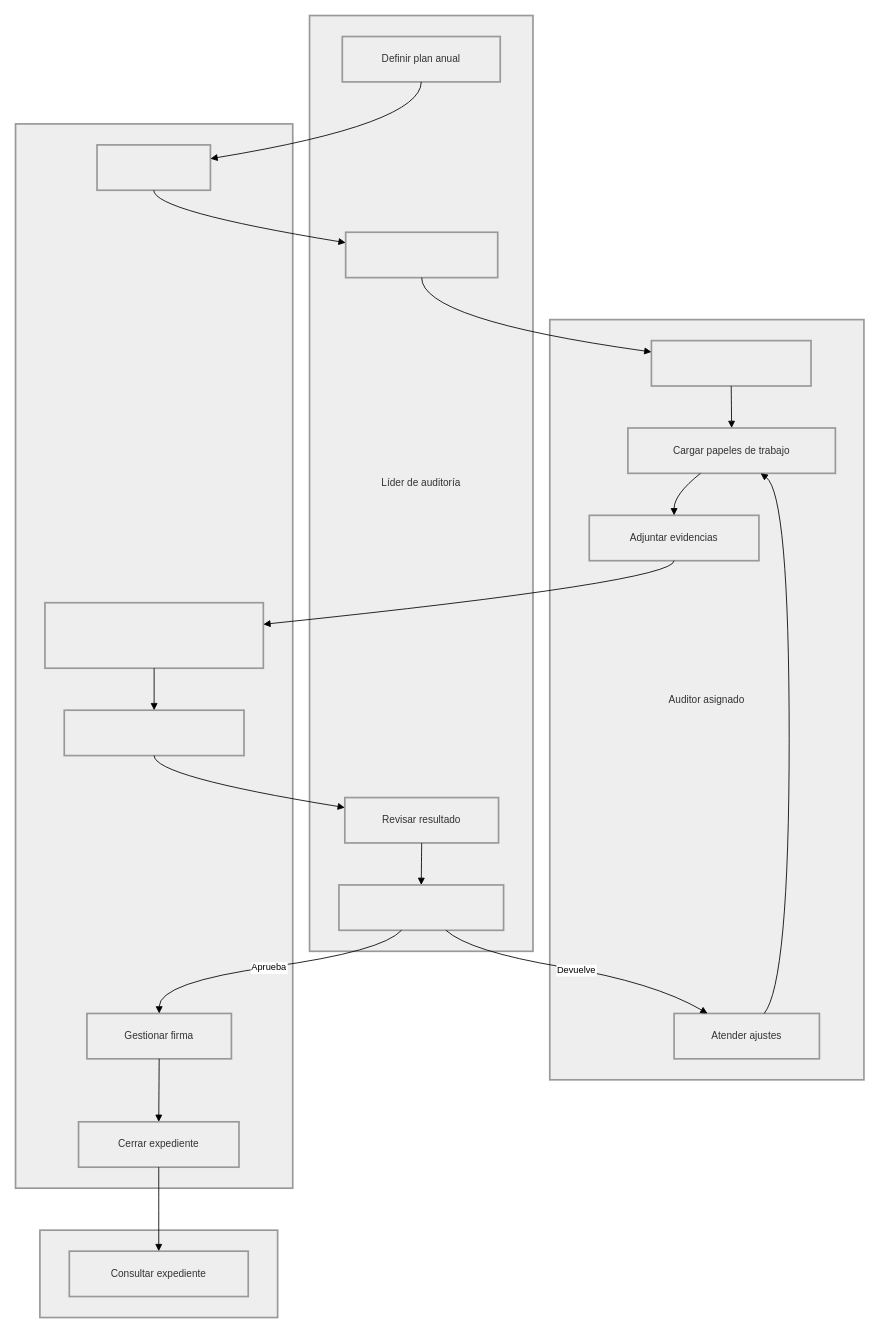
This 879x1332 diagram has some shape labels left out. The shapes that lost their labels are listed below. From the top down, each one's centre as x and y in pixels, then its label:
At pixel 153 167: "Crear caso".
At pixel 421 254: "Asignar auditoría".
At pixel 730 362: "Ejecutar auditoría".
At pixel 154 635: "Validar documentos obligatorios".
At pixel 153 732: "Registrar trazabilidad".
At pixel 421 907: "Aprobar o devolver".
